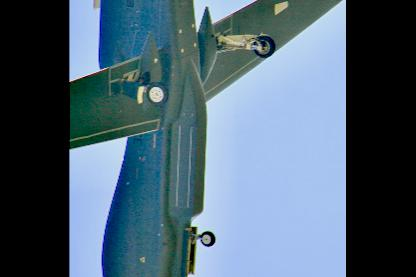P3: (69, 0, 346, 276)
